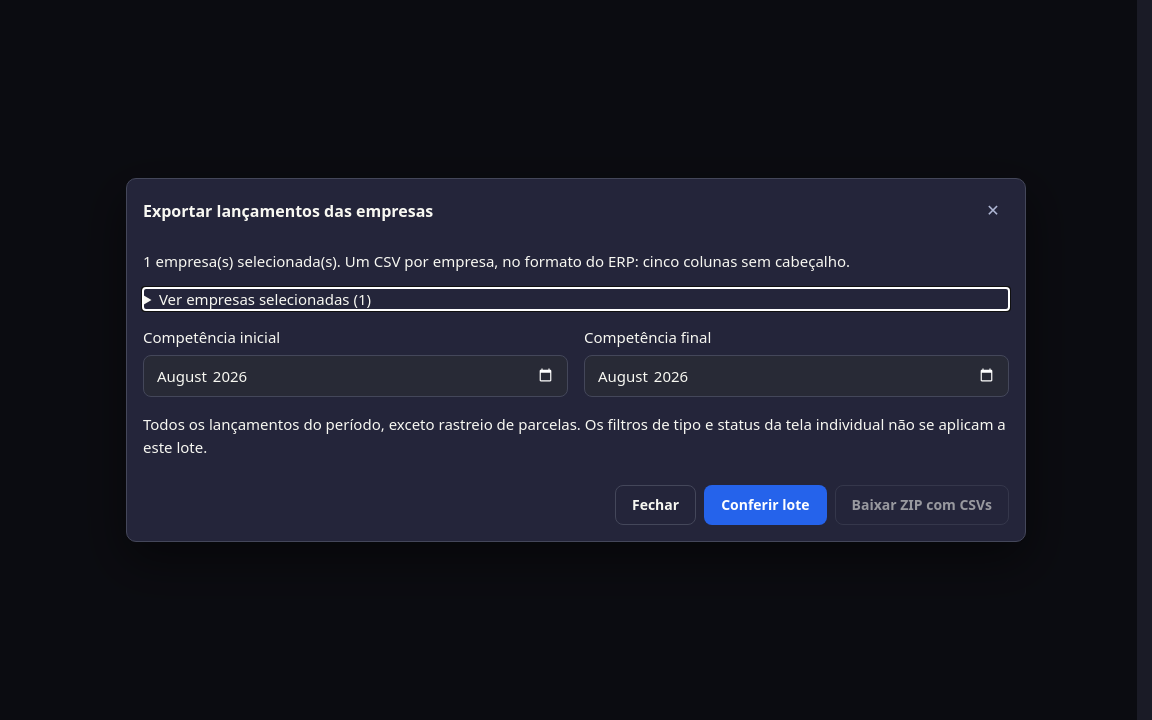
alterar período invalida a prévia e reconhecimento anteriores
Click the button "Conferir lote" at (765, 505), box x1=704 y1=485 x2=826 y2=525
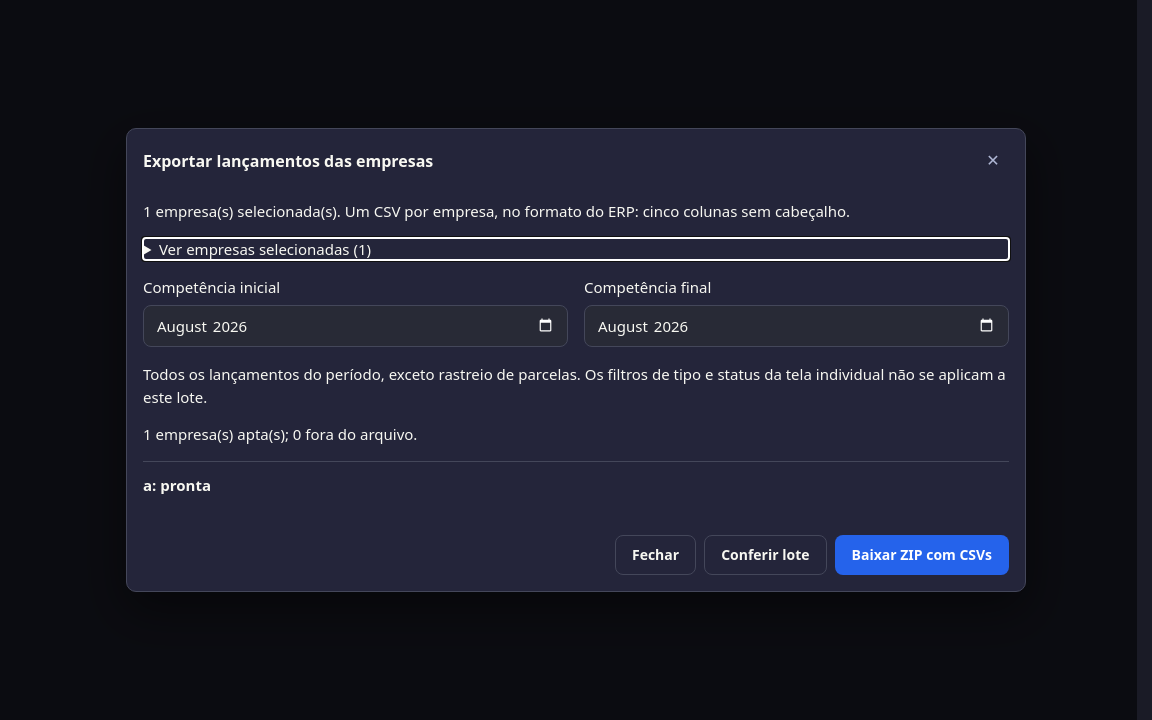
expect the button "Baixar ZIP com CSVs" is enabled: met, box x1=834 y1=535 x2=1009 y2=575
Replace the text in the field labelled "Competência final" with "2026-09" at (796, 326), box x1=584 y1=304 x2=1009 y2=347
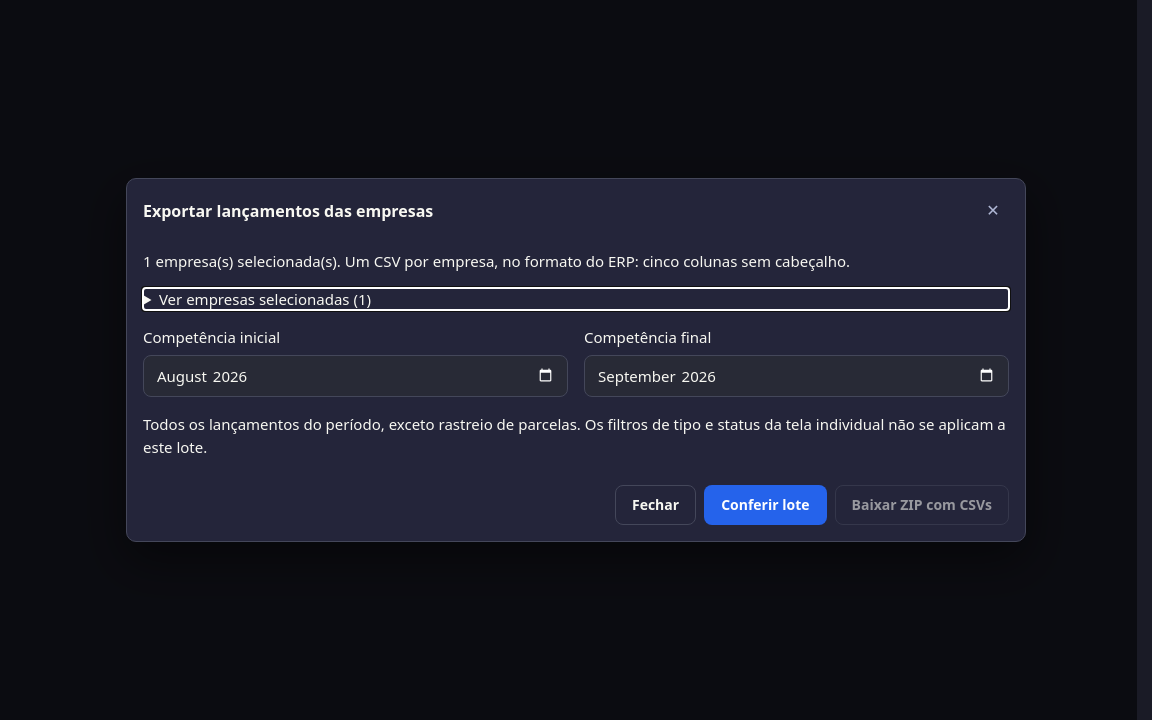
expect the button "Baixar ZIP com CSVs" is disabled: met, box x1=834 y1=485 x2=1009 y2=525
